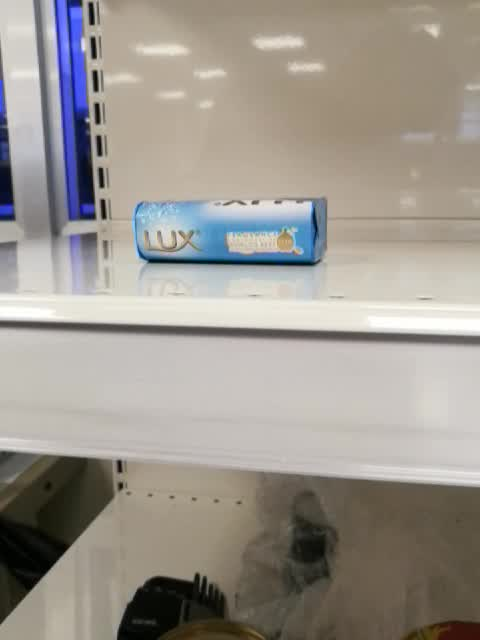soap: (132, 195, 328, 266)
